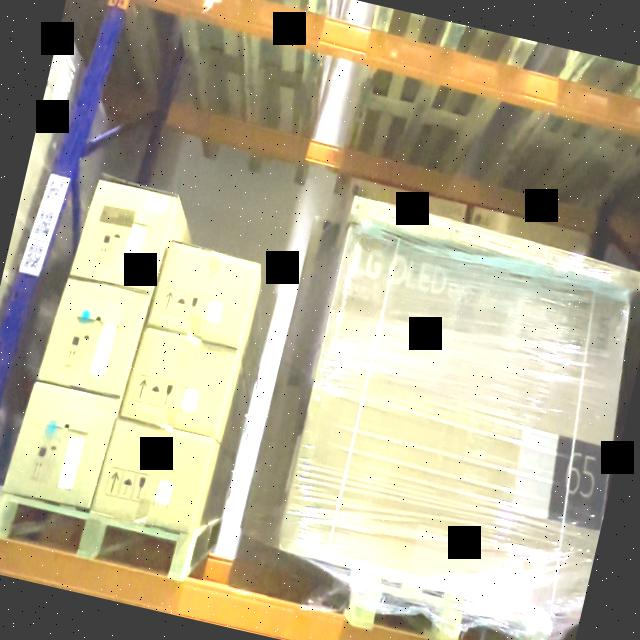box: (282, 240, 629, 598), (8, 384, 118, 510), (94, 418, 213, 530), (42, 280, 148, 398), (121, 329, 236, 436), (74, 180, 176, 292), (152, 243, 258, 345), (444, 218, 558, 268), (347, 193, 453, 240), (553, 250, 640, 292)
